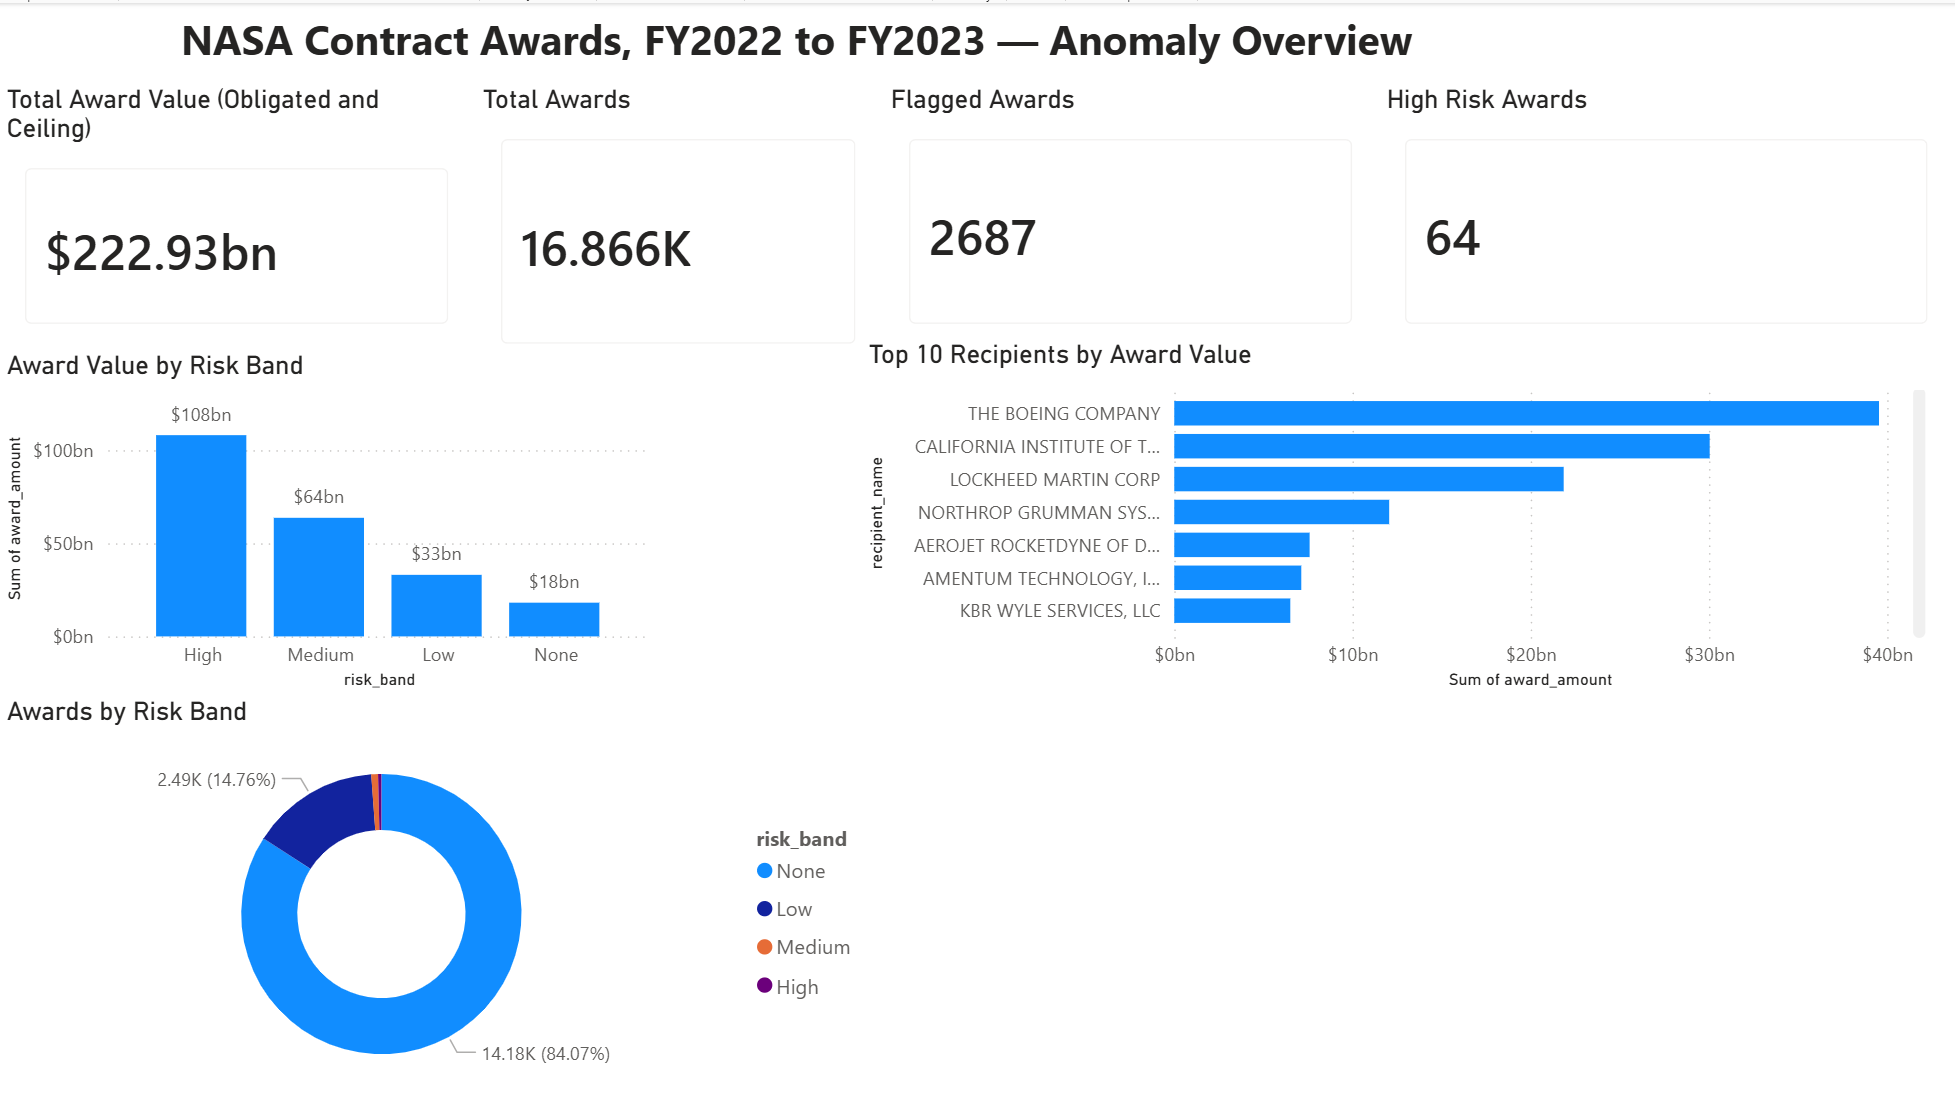

What the dashboard file says about the page in this screenshot:
{"tool":"powerbi","page":{"name":"Executive Summary","canvas":[1280,720],"ordinal":0},"visuals":[{"type":"cardVisual","title":"Total Award Value (Obligated and Ceiling)","fields":{"Data":["Sum(public fact_award.award_amount)"]},"box":[0,53,311.5,174.1],"z":0},{"type":"cardVisual","title":"Total Awards","fields":{"Data":["CountNonNull(public fact_award.award_sk)"]},"box":[311.5,53,267,187.2],"z":1000},{"type":"cardVisual","title":"Flagged Awards","fields":{"Data":["public dim_date.Flagged Awards"]},"box":[578.5,53,324.6,174.1],"z":2000},{"type":"cardVisual","title":"High Risk Awards","fields":{"Data":["public dim_date.High Risk Awards"]},"box":[903.1,53,376.9,174.1],"z":3000},{"type":"clusteredColumnChart","title":"Award Value by Risk Band","fields":{"Y":["Sum(public fact_award.award_amount)"],"Category":["public fact_award.risk_band"]},"box":[0,227.1,431.2,226.4],"z":4000},{"type":"clusteredBarChart","title":"Top 10 Recipients by Award Value","fields":{"Category":["public dim_recipient.recipient_name"],"Y":["Sum(public fact_award.award_amount)"]},"box":[564.1,219.9,701.5,233.6],"z":5000},{"type":"donutChart","title":"Awards by Risk Band","fields":{"Category":["public fact_award.risk_band"],"Y":["CountNonNull(public fact_award.award_sk)"]},"box":[0,453.5,578.5,266.3],"z":6000},{"type":"textbox","box":[113.9,0,832.4,53],"z":7000}]}

Visuals, with their boxes in screenshot pixels (x1, y1, x2, y2), scaled from the page's 1280x720 canvas onto the 1955x1100 screenshot:
"Total Award Value (Obligated and Ceiling)" cardVisual: BBox(0, 81, 476, 347)
"Total Awards" cardVisual: BBox(476, 81, 884, 367)
"Flagged Awards" cardVisual: BBox(884, 81, 1379, 347)
"High Risk Awards" cardVisual: BBox(1379, 81, 1954, 347)
"Award Value by Risk Band" clusteredColumnChart: BBox(0, 347, 659, 693)
"Top 10 Recipients by Award Value" clusteredBarChart: BBox(862, 336, 1933, 693)
"Awards by Risk Band" donutChart: BBox(0, 693, 884, 1099)
textbox: BBox(174, 0, 1445, 81)
